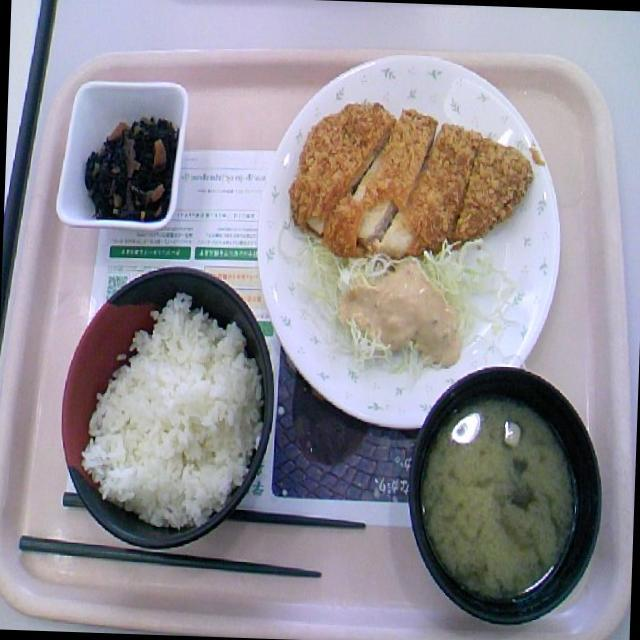Rice: (79, 293, 263, 531)
